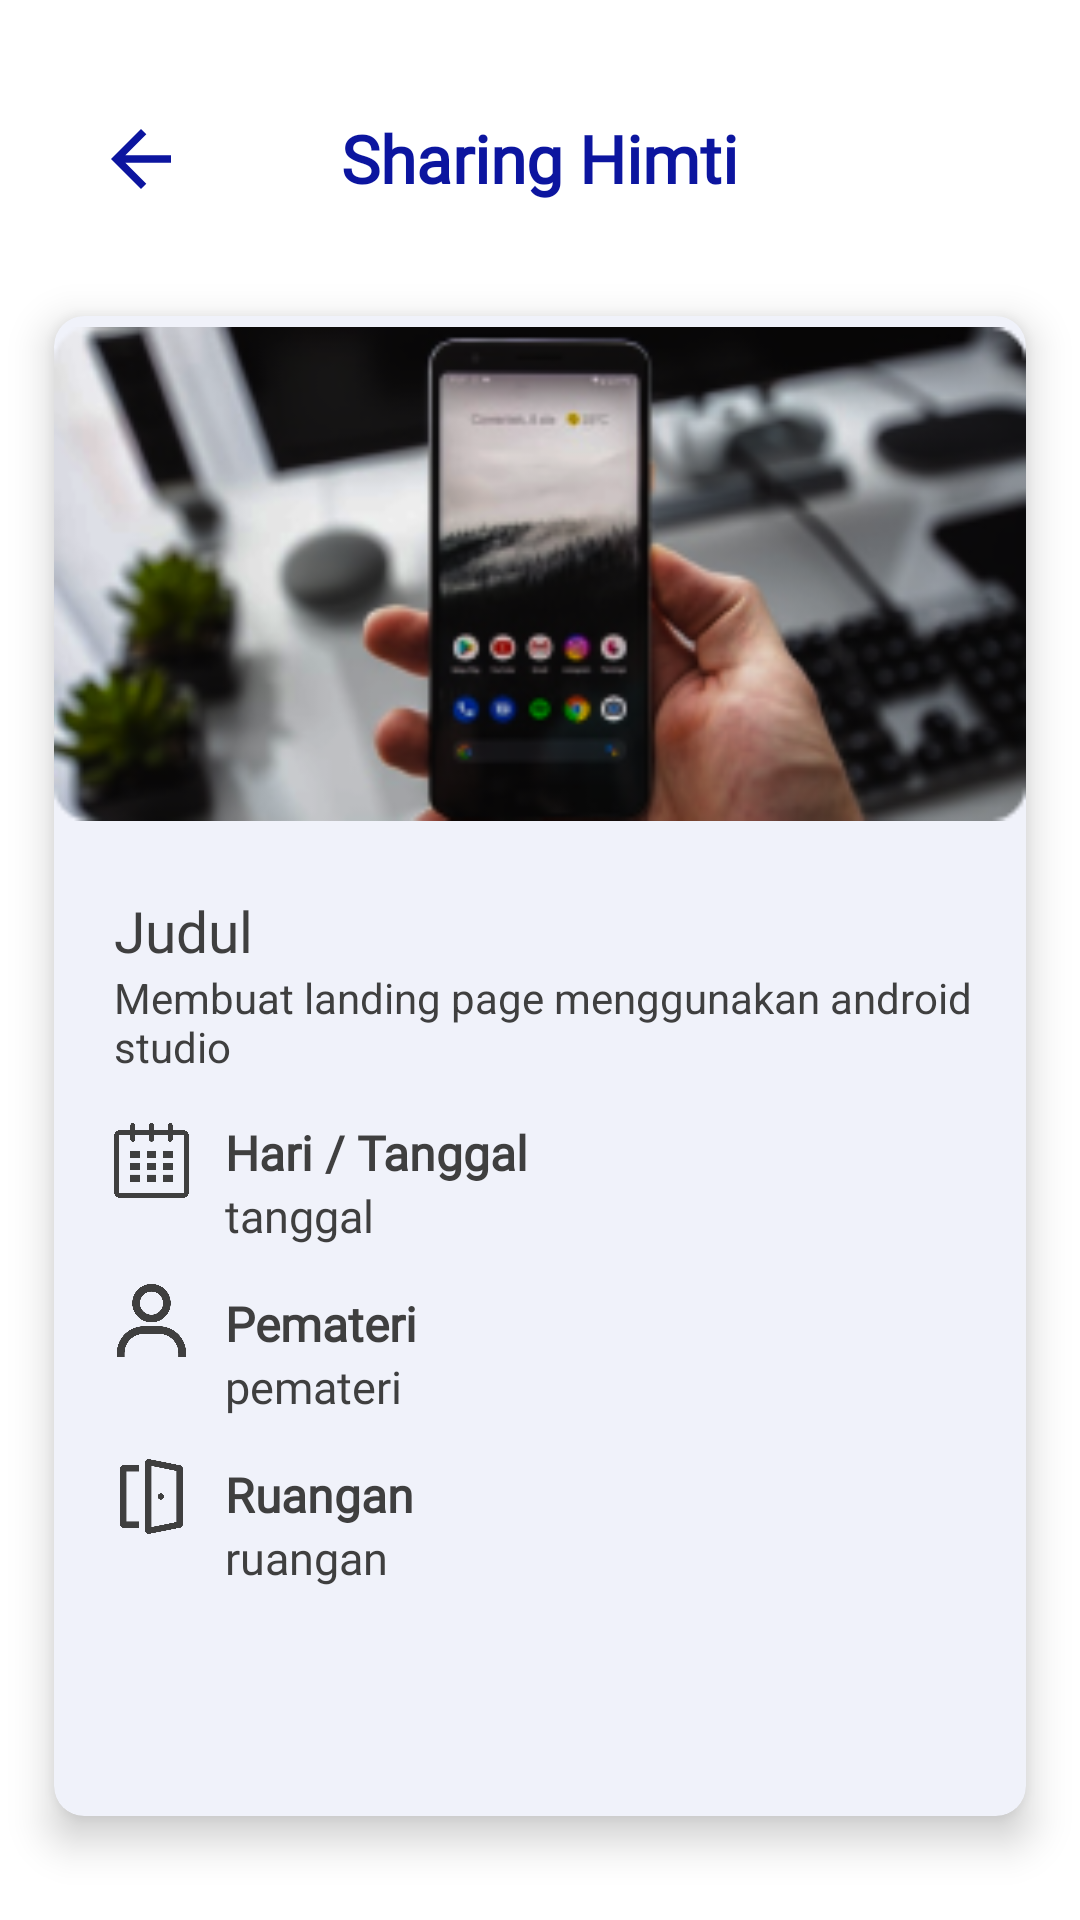

Icon click points for this 1080 × 1920 phone screenshot, format (x,y):
arrow backblue: (141,159)
date: (151,1160)
room: (151,1496)
